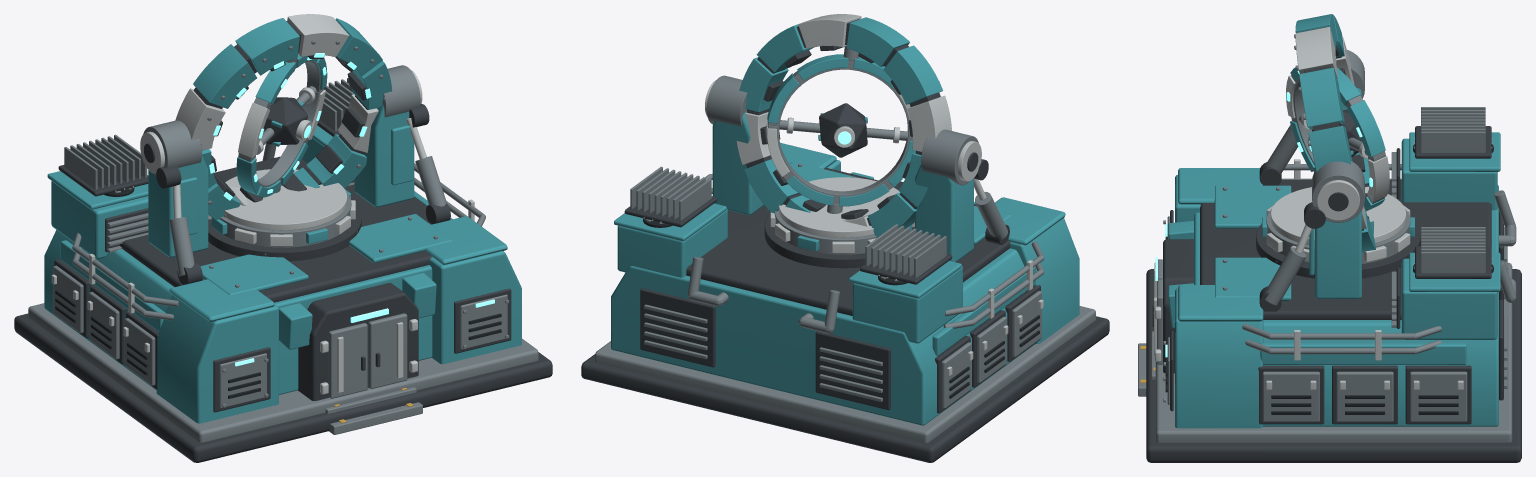
Rendered from research-scanner-upgraded.glb.
The picture shows the model from 3 angles, left to right: view 1: azimuth 30°, elevation 25°; view 2: azimuth 150°, elevation 25°; view 3: azimuth 270°, elevation 25°; orthographic projection. The views are drawn at different scales.
Visible parts, largest first — view 1: modelRoot-team-primary, modelRoot-neutral-metal, modelRoot-structure, scannerTilt-team-primary, modelRoot-armor, scannerTilt-armor, scannerTilt-structure, scannerInner-team-primary, scannerInner-neutral-metal, modelRoot-rubber, scannerInner-armor, instrumentCore-structure (+1 smaller); view 2: modelRoot-team-primary, modelRoot-structure, modelRoot-neutral-metal, scannerTilt-team-primary, modelRoot-armor, scannerTilt-armor, scannerInner-team-primary, scannerInner-neutral-metal, scannerTilt-structure, instrumentCore-structure, modelRoot-rubber, scannerInner-armor; view 3: modelRoot-team-primary, modelRoot-neutral-metal, modelRoot-structure, modelRoot-armor, scannerTilt-team-primary, scannerInner-team-primary, scannerTilt-armor, modelRoot-rubber, scannerInner-armor, scannerInner-neutral-metal, scannerTilt-structure.
Part boxes in pixels (box(x1,y1,x2,y2)): modelRoot-team-primary: box(44, 104, 521, 423); modelRoot-neutral-metal: box(28, 65, 538, 442); modelRoot-structure: box(14, 104, 552, 462); scannerTilt-team-primary: box(193, 18, 392, 219); modelRoot-armor: box(51, 70, 474, 394); scannerTilt-armor: box(175, 14, 378, 205); scannerTilt-structure: box(193, 20, 376, 202); scannerInner-team-primary: box(236, 54, 327, 197); scannerInner-neutral-metal: box(238, 59, 323, 192); modelRoot-rubber: box(55, 187, 501, 398); scannerInner-armor: box(238, 87, 325, 157); instrumentCore-structure: box(263, 97, 307, 144); modelRoot-team-primary: box(611, 111, 1079, 425); modelRoot-structure: box(581, 152, 1109, 462); modelRoot-neutral-metal: box(595, 75, 1095, 442); scannerTilt-team-primary: box(739, 17, 942, 237); modelRoot-armor: box(643, 80, 1043, 376); scannerTilt-armor: box(736, 14, 951, 226); scannerInner-team-primary: box(767, 54, 915, 206); scannerInner-neutral-metal: box(767, 60, 912, 204); scannerTilt-structure: box(746, 19, 940, 225); instrumentCore-structure: box(819, 103, 867, 157); modelRoot-rubber: box(643, 218, 1039, 398); scannerInner-armor: box(766, 93, 910, 176); modelRoot-team-primary: box(1168, 88, 1500, 428); modelRoot-neutral-metal: box(1138, 50, 1516, 442); modelRoot-structure: box(1146, 126, 1521, 462); modelRoot-armor: box(1154, 138, 1492, 389); scannerTilt-team-primary: box(1295, 14, 1375, 252); scannerInner-team-primary: box(1290, 67, 1385, 211); scannerTilt-armor: box(1295, 27, 1369, 229); modelRoot-rubber: box(1165, 144, 1493, 414); scannerInner-armor: box(1286, 75, 1389, 202); scannerInner-neutral-metal: box(1291, 75, 1385, 203); scannerTilt-structure: box(1304, 27, 1369, 230).
Size of the model in its own units: 2.9 by 2.61 by 2.61.
